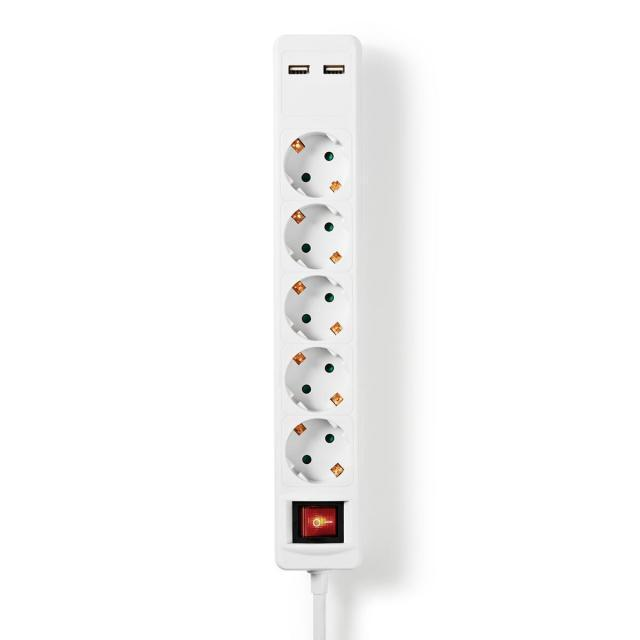typeb: (249, 20, 398, 583)
